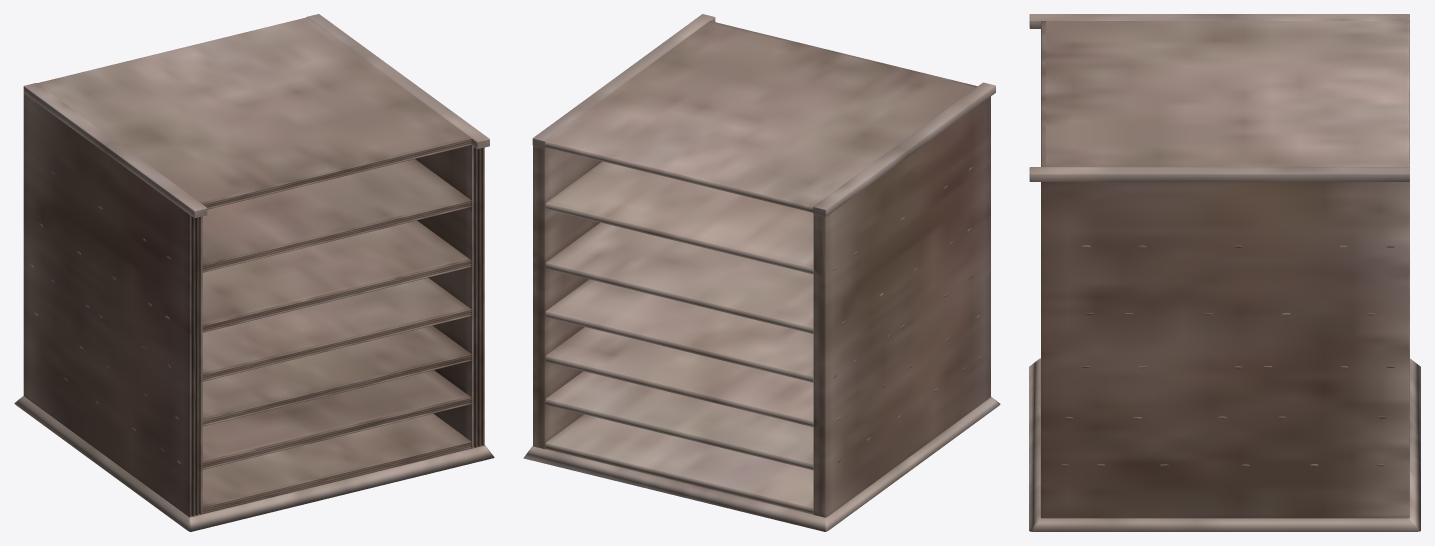
Rendered from ph-wooden-bookshelf-worn.glb.
3 views of the same model, side by side, from view 1: azimuth 30°, elevation 25°; view 2: azimuth 150°, elevation 25°; view 3: azimuth 270°, elevation 25° (orthographic). The views are drawn at different scales.
Parts seen in each view (by area): view 1: wooden_bookshelf_worn; view 2: wooden_bookshelf_worn; view 3: wooden_bookshelf_worn.
Boxes of the visible parts, x1=… form: wooden_bookshelf_worn: x1=14, y1=14, x2=494, y2=531; wooden_bookshelf_worn: x1=523, y1=14, x2=1000, y2=531; wooden_bookshelf_worn: x1=1029, y1=14, x2=1420, y2=531.
Size of the model in its own units: 1 by 1 by 1.
1 material, 1 textured.
